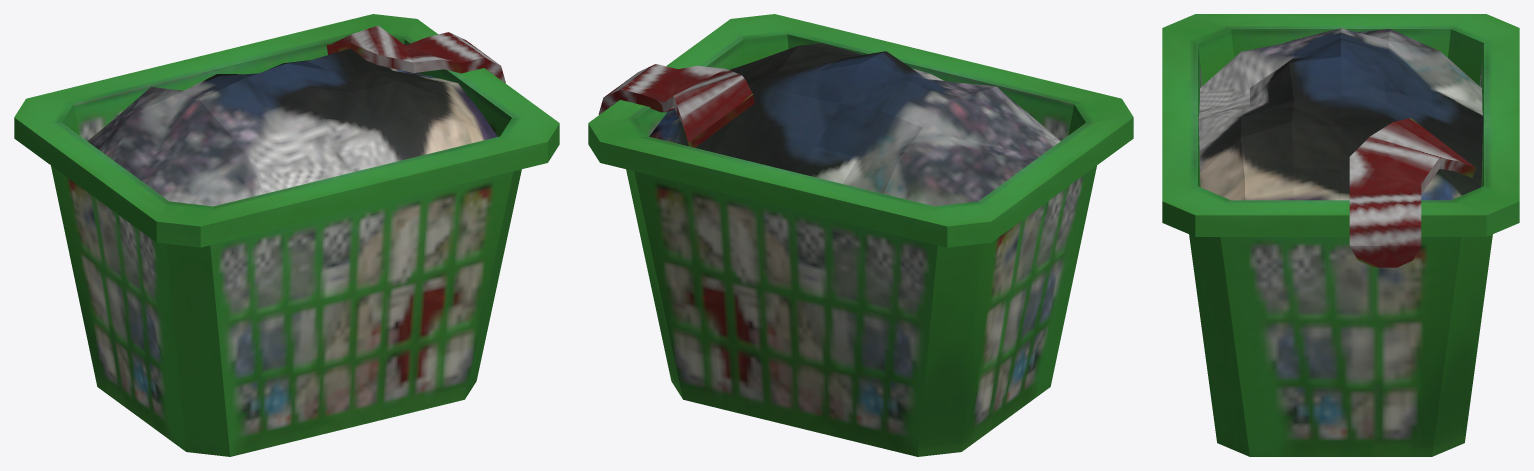
File: laundrybasket.fbx
3 views of the same model, side by side, from view 1: azimuth 30°, elevation 25°; view 2: azimuth 150°, elevation 25°; view 3: azimuth 270°, elevation 25° (orthographic). The views are drawn at different scales.
Visible parts, largest first — view 1: laundry_basket; view 2: laundry_basket; view 3: laundry_basket.
Part boxes in pixels (x1,y1,x2,y2): laundry_basket: [14, 14, 559, 456]; laundry_basket: [588, 14, 1133, 456]; laundry_basket: [1162, 14, 1519, 456].
Bounding box in the file's own units: 42.13 × 30.37 × 30.
Materials: 1 (1 with a texture image).
